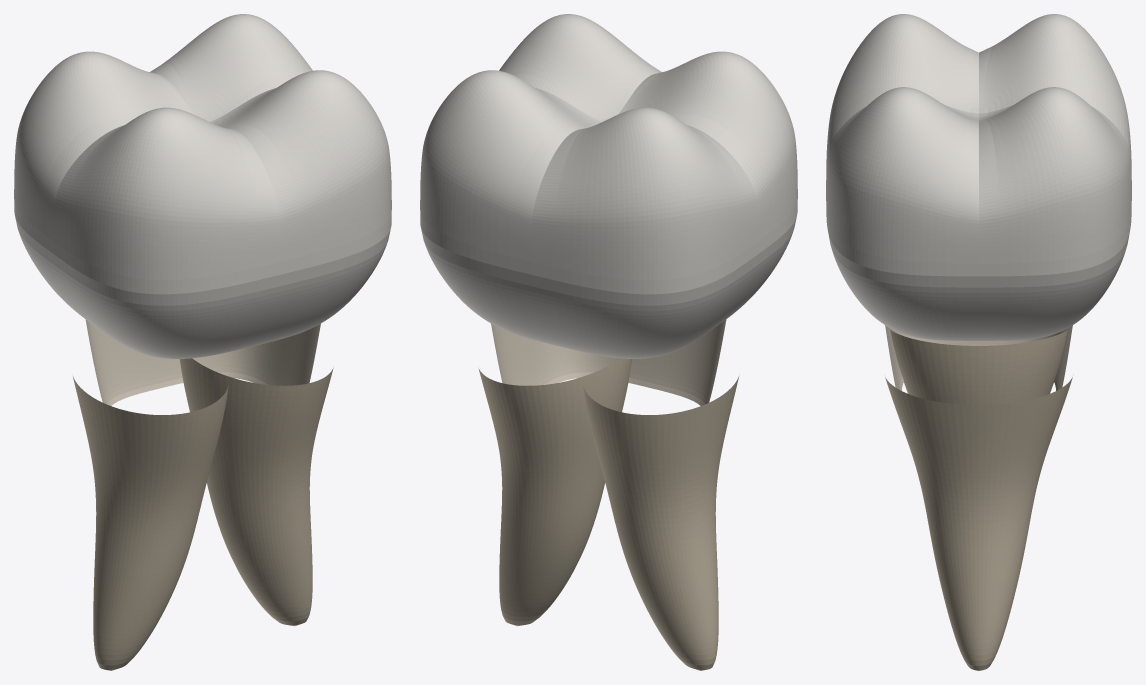
The model's file is dente-molar.glb.
The picture shows the model from 3 angles, left to right: view 1: azimuth 30°, elevation 25°; view 2: azimuth 150°, elevation 25°; view 3: azimuth 270°, elevation 25°; orthographic projection. The views are drawn at different scales.
Parts seen in each view (by area): view 1: coroa, raiz_mesial, raiz_distal, colo_cervical; view 2: coroa, raiz_mesial, raiz_distal, colo_cervical; view 3: coroa, raiz_distal, raiz_mesial, colo_cervical.
Part boxes in pixels (x1,y1,x2,y2): coroa: (14,14,391,358); raiz_mesial: (73,376,228,670); raiz_distal: (179,358,333,626); colo_cervical: (85,319,320,405); coroa: (420,14,797,358); raiz_mesial: (583,376,738,670); raiz_distal: (478,358,632,626); colo_cervical: (491,319,726,405); coroa: (826,14,1131,340); raiz_distal: (885,377,1072,670); raiz_mesial: (890,330,1067,405); colo_cervical: (885,325,1072,390).
Size of the model in its own units: 0.5362 by 1 by 0.4843.
